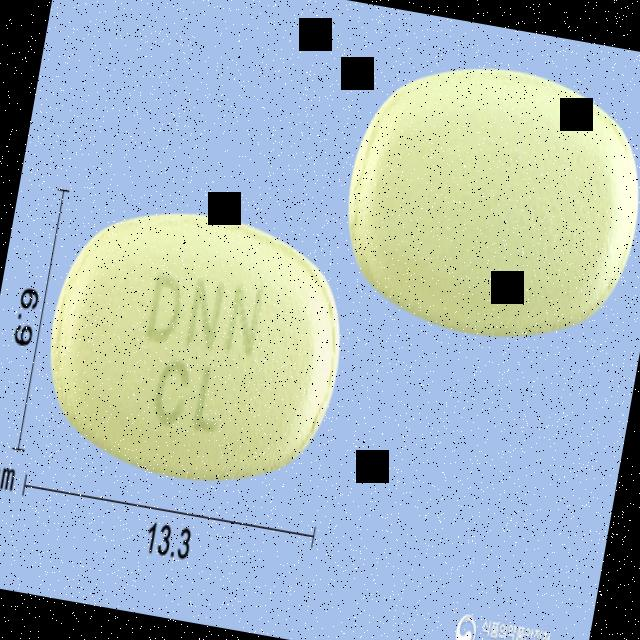Clcid: (26, 184, 363, 506)
